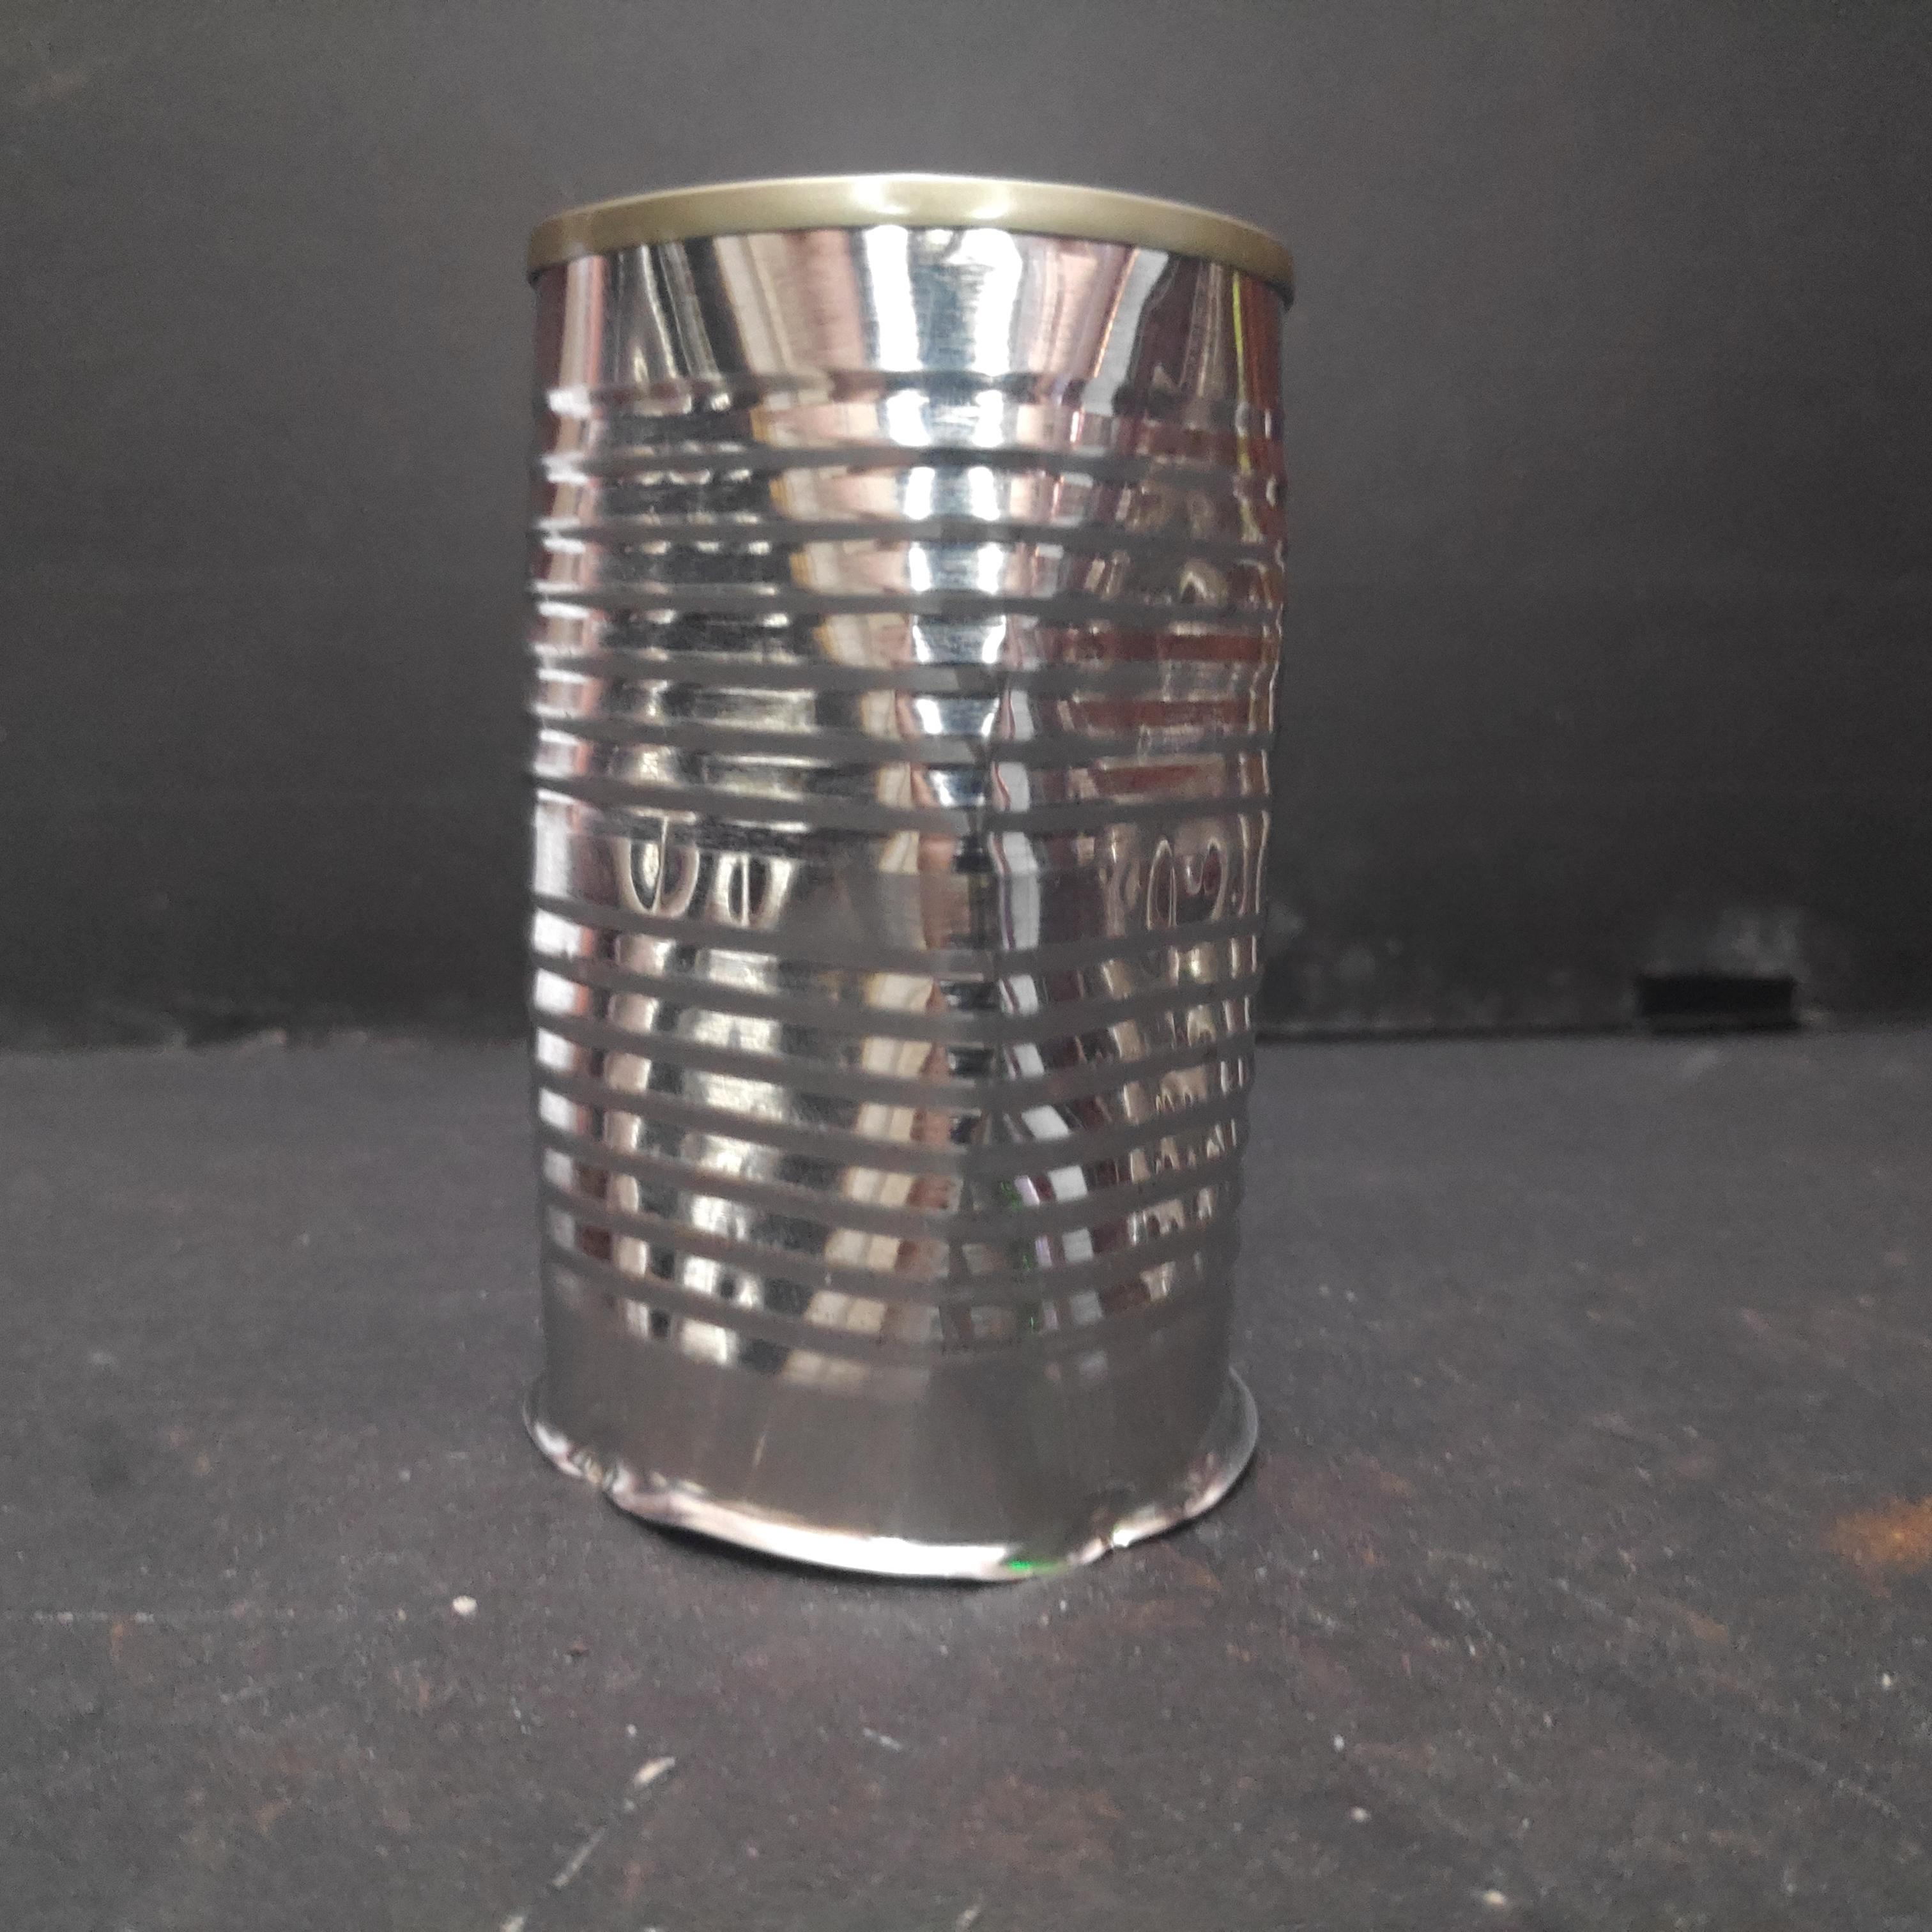Minor Defect: (513, 173, 1302, 1601)
